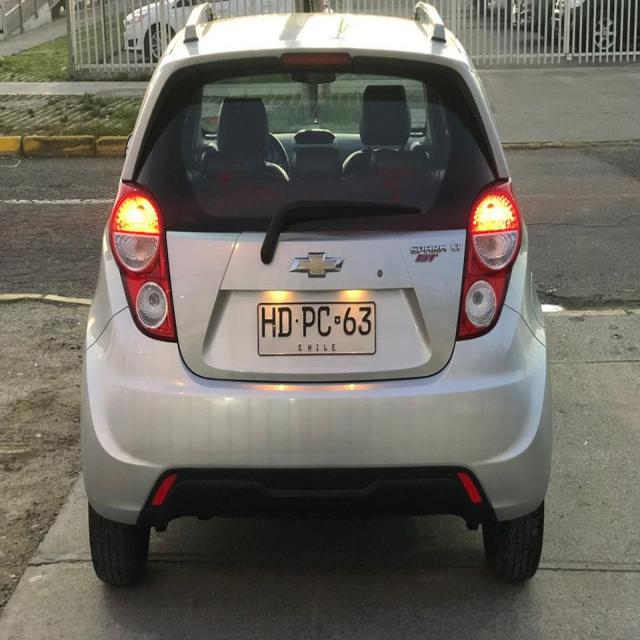patente: (256, 299, 376, 356)
